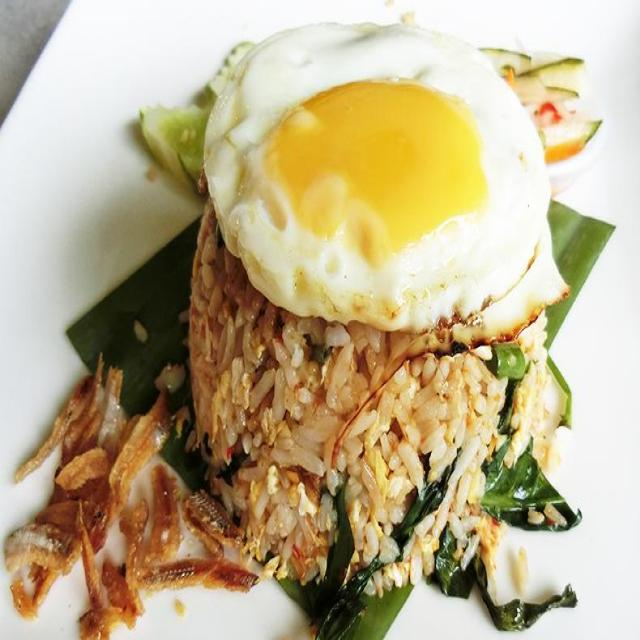Nasi Goreng: (166, 110, 550, 574)
